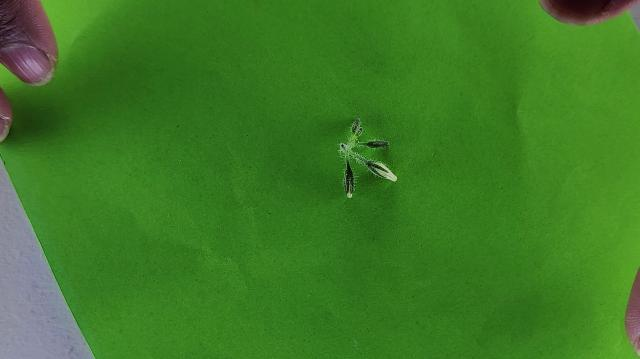Flower Bud: (365, 160, 397, 183), (343, 156, 354, 199), (361, 140, 390, 149)
